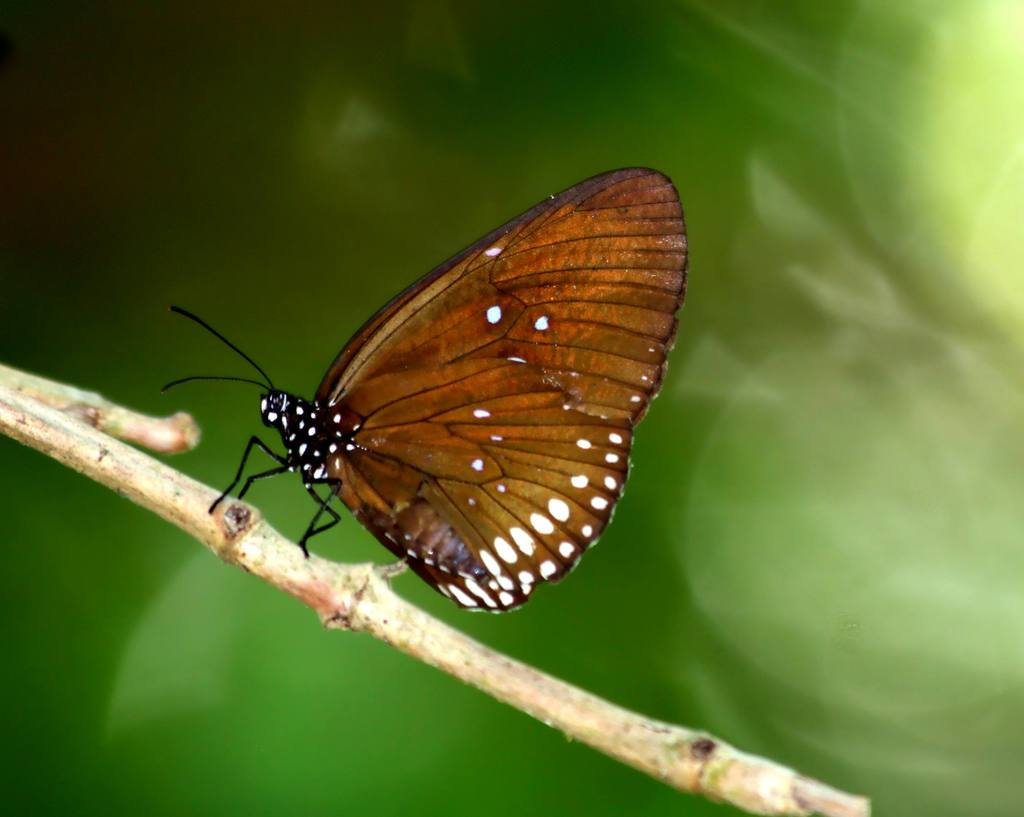Butterfly: (159, 129, 698, 623)
